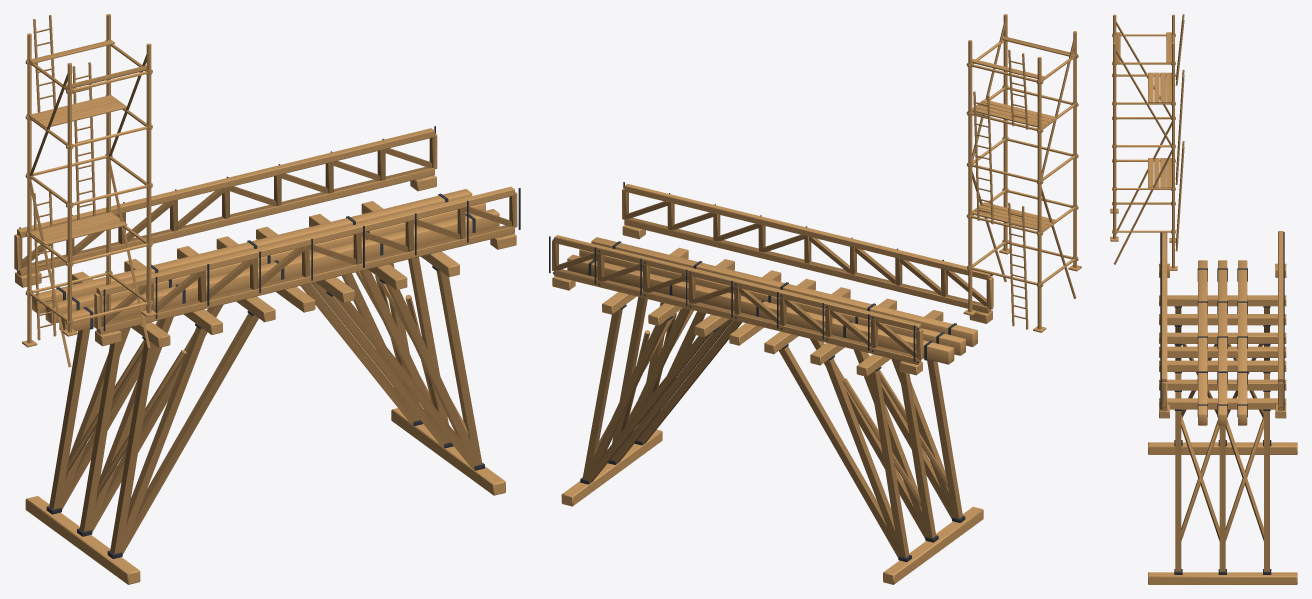
The model's file is viaduct-repair.glb.
3 views of the same model, side by side, from view 1: azimuth 30°, elevation 25°; view 2: azimuth 150°, elevation 25°; view 3: azimuth 270°, elevation 25° (orthographic). The views are drawn at different scales.
Parts seen in each view (by area): view 1: viaduct-repair Fresh timber, Scaffold Fresh timber, Beam1 Fresh timber, Beam3 Fresh timber, Beam2 Fresh timber, viaduct-repair Iron; view 2: viaduct-repair Fresh timber, Scaffold Fresh timber, Beam3 Fresh timber, Beam1 Fresh timber, Beam2 Fresh timber, viaduct-repair Iron; view 3: viaduct-repair Fresh timber, Scaffold Fresh timber, Beam1 Fresh timber, Beam2 Fresh timber, Beam3 Fresh timber, viaduct-repair Iron.
Boxes of the visible parts, <box> form: viaduct-repair Fresh timber: <box>14,128,517,584</box>; Scaffold Fresh timber: <box>22,14,156,367</box>; Beam1 Fresh timber: <box>59,209,499,331</box>; Beam3 Fresh timber: <box>32,189,472,313</box>; Beam2 Fresh timber: <box>45,203,485,323</box>; viaduct-repair Iron: <box>19,126,520,558</box>; viaduct-repair Fresh timber: <box>552,184,993,584</box>; Scaffold Fresh timber: <box>963,14,1081,332</box>; Beam3 Fresh timber: <box>567,254,954,364</box>; Beam1 Fresh timber: <box>591,237,977,346</box>; Beam2 Fresh timber: <box>579,249,965,355</box>; viaduct-repair Iron: <box>549,182,992,562</box>; viaduct-repair Fresh timber: <box>1148,231,1297,584</box>; Scaffold Fresh timber: <box>1110,14,1184,270</box>; Beam1 Fresh timber: <box>1198,260,1207,425</box>; Beam2 Fresh timber: <box>1218,260,1227,425</box>; Beam3 Fresh timber: <box>1238,260,1247,425</box>; viaduct-repair Iron: <box>1160,232,1284,574</box>.
Size of the model in its own units: 14.95 by 16.4 by 6.75.
